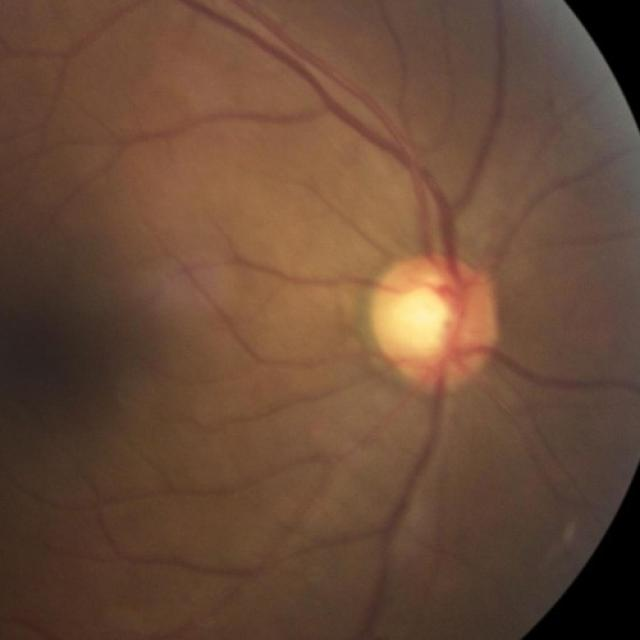OC: (393, 290, 448, 347)
OD: (369, 254, 499, 390)
